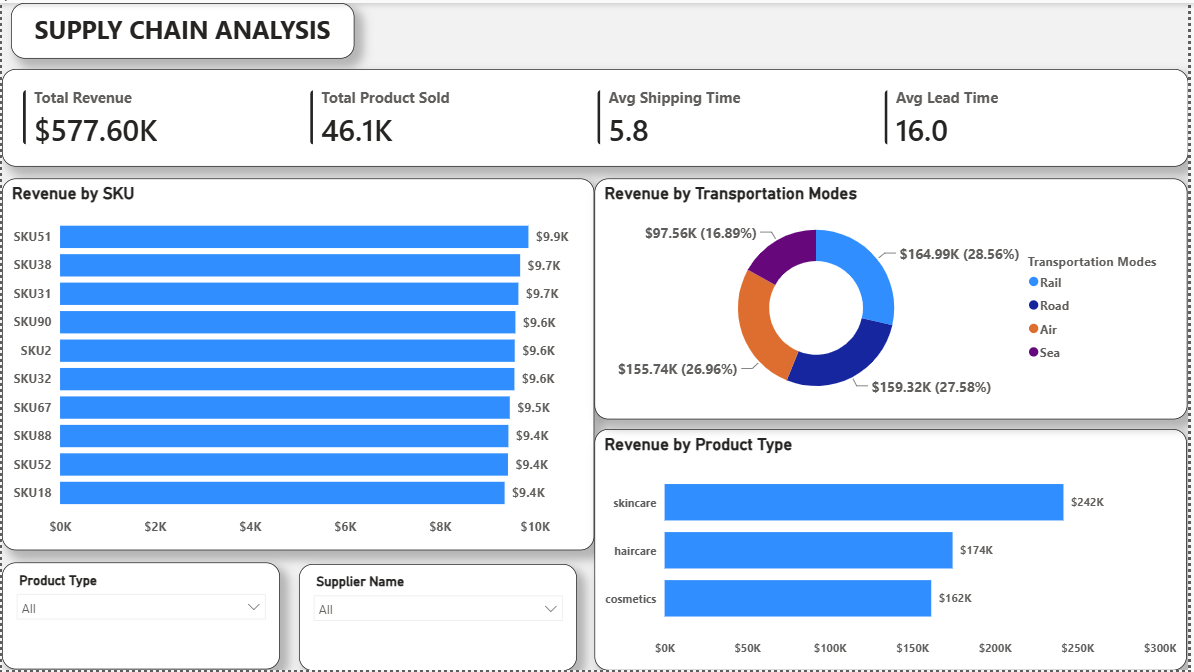

The dashboard page shown, as its layout file describes it:
{"tool":"powerbi","page":{"name":"supply chain","canvas":[1280,720],"ordinal":0},"visuals":[{"type":"textbox","box":[9.7,0,370.8,59.9],"z":0},{"type":"cardVisual","fields":{"Data":["SupplyChain.Total Revenue","SupplyChain.Total Product Sold","SupplyChain.Avg Shipping Time","SupplyChain.Avg Lead Time"]},"box":[0,71.2,1280.8,105.2],"z":1},{"type":"clusteredBarChart","title":"Revenue by SKU","fields":{"Category":["SupplyChain.SKU"],"Y":["SupplyChain.Total Revenue"]},"box":[0,189.4,639.6,401.6],"z":2},{"type":"barChart","title":"Revenue by Product Type","fields":{"Category":["SupplyChain.Product_type"],"Y":["SupplyChain.Total Revenue"]},"box":[639.6,459.9,639.6,260.7],"z":3},{"type":"donutChart","title":"Revenue by Transportation Modes","fields":{"Y":["SupplyChain.Total Revenue"],"Category":["SupplyChain.Transportation_modes"]},"box":[640,189,640,260],"z":4},{"type":"slicer","fields":{"Values":["SupplyChain.Product_type"]},"box":[0,604,300,115],"z":5},{"type":"slicer","fields":{"Values":["SupplyChain.Supplier_name"]},"box":[320.6,605.6,300,115],"z":6}]}

Visuals, with their boxes in screenshot pixels (x1, y1, x2, y2), scaled from the page's 1280x720 canvas onto the 1194x672 screenshot:
textbox: locate(9, 0, 355, 56)
cardVisual - SupplyChain.Total Revenue x SupplyChain.Total Product Sold: locate(0, 66, 1193, 165)
"Revenue by SKU" clusteredBarChart: locate(0, 177, 597, 552)
"Revenue by Product Type" barChart: locate(597, 429, 1193, 671)
"Revenue by Transportation Modes" donutChart: locate(597, 176, 1193, 419)
slicer - SupplyChain.Product_type: locate(0, 564, 280, 671)
slicer - SupplyChain.Supplier_name: locate(299, 565, 579, 671)
